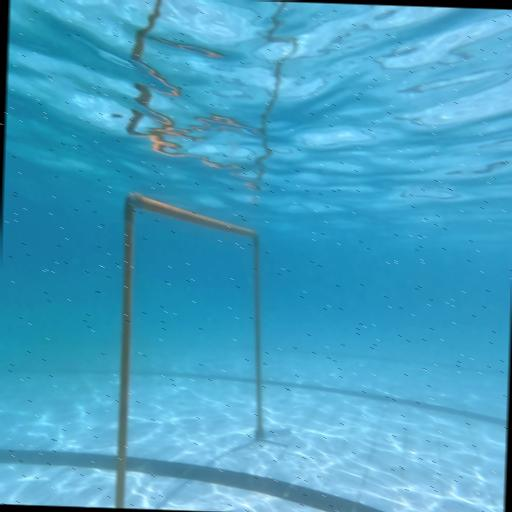gate: (112, 188, 298, 512)
